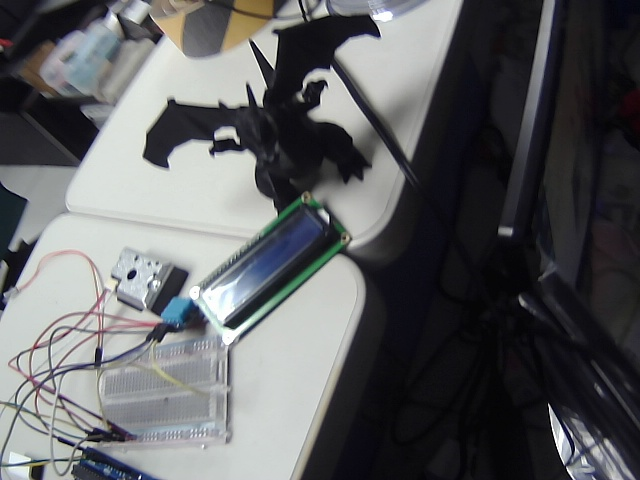charizard: (128, 12, 394, 221)
